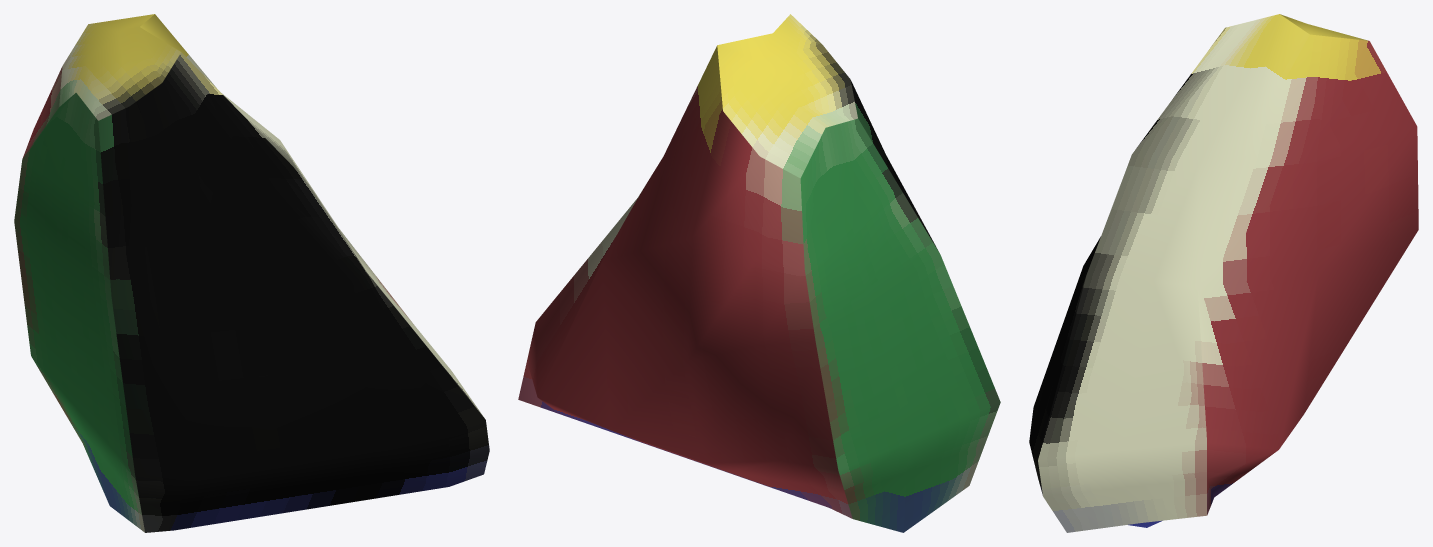
Rendered from armsling.fbx.
The picture shows the model from 3 angles, left to right: view 1: azimuth 30°, elevation 25°; view 2: azimuth 150°, elevation 25°; view 3: azimuth 270°, elevation 25°; orthographic projection. The views are drawn at different scales.
Parts seen in each view (by area): view 1: armsling_mesh; view 2: armsling_mesh; view 3: armsling_mesh.
Part boxes in pixels (x1,y1,x2,y2): armsling_mesh: (14, 14, 489, 532); armsling_mesh: (518, 14, 1000, 532); armsling_mesh: (1029, 14, 1418, 532).
Bounding box in the file's own units: 5.15 × 6.09 × 5.15.
1 material, 1 textured.
